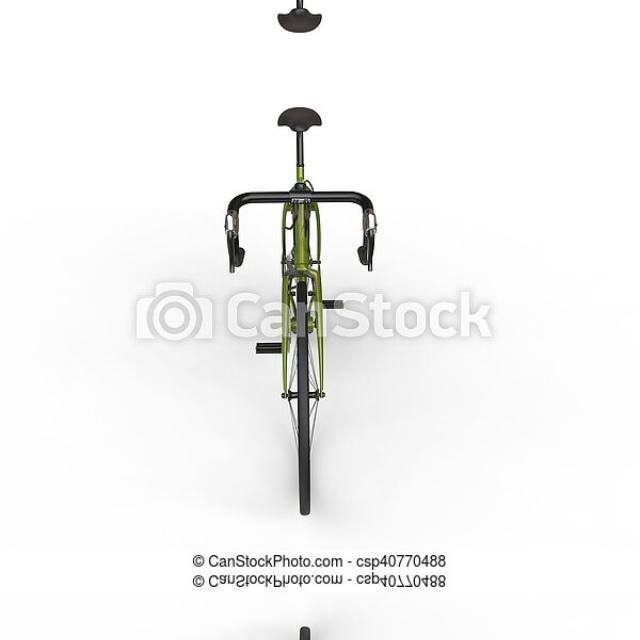obstacle: (227, 94, 393, 516), (227, 0, 393, 44), (227, 625, 393, 640)
